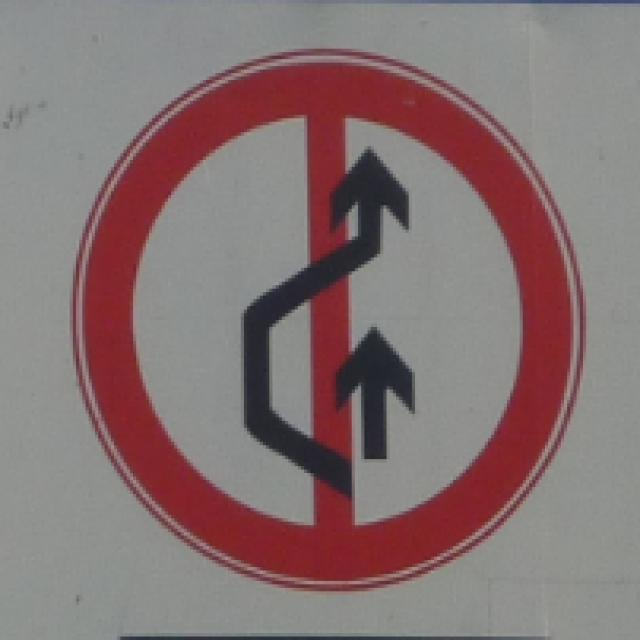Not that Direction: (77, 45, 587, 588)
